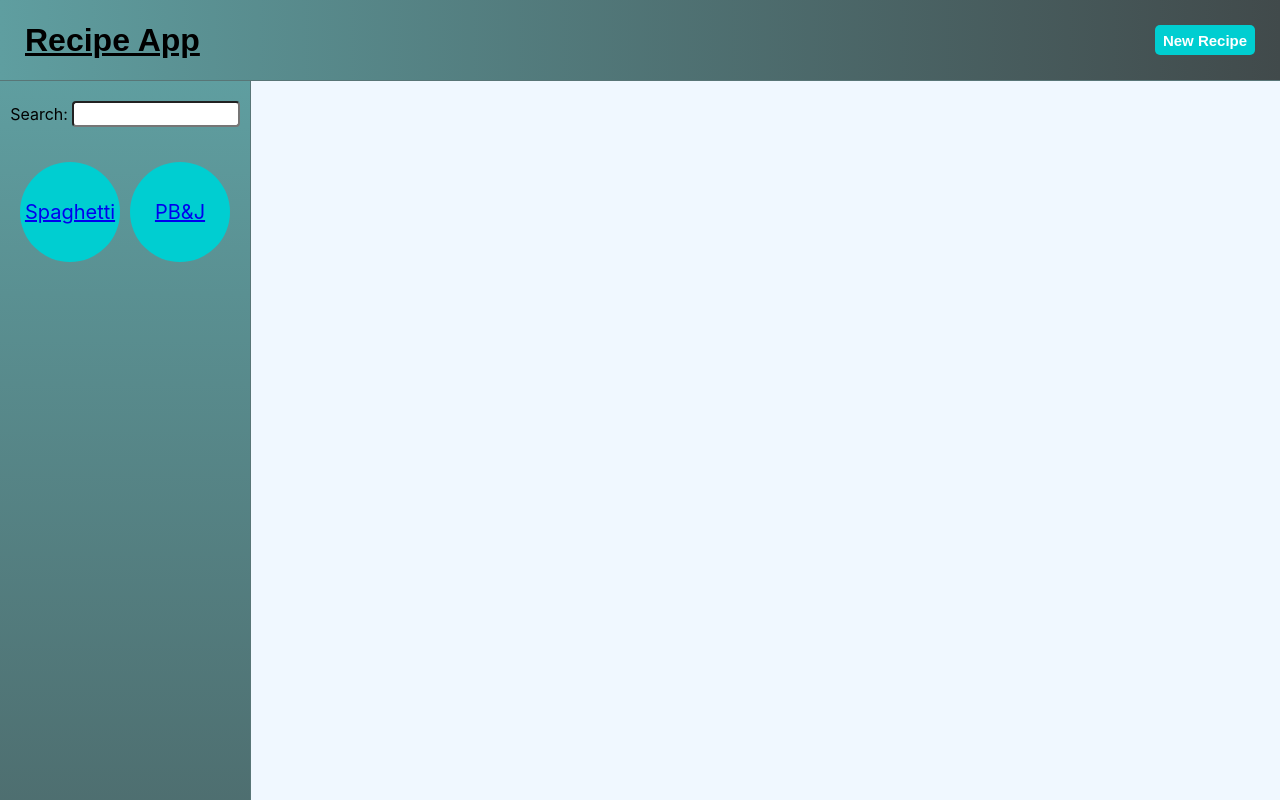
Test: Home page › sidebar should have a search component that filters sidebar recipes
Type "Spa" into the field with id "search".
click(156, 114); type("Spa")  # box [72,101,240,127]
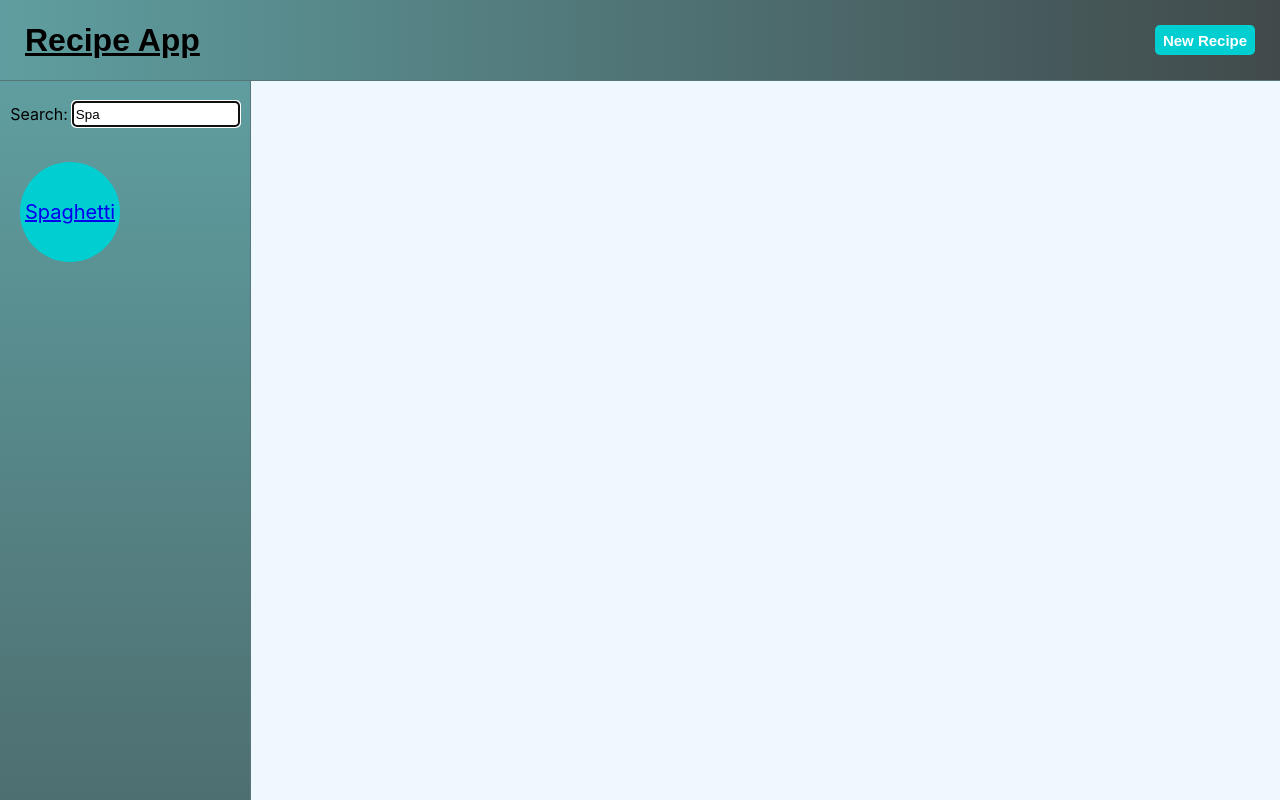
Expected: the link "Spaghetti" is shown, [15,157,125,267]
Expected: the link "PB&J" is gone
